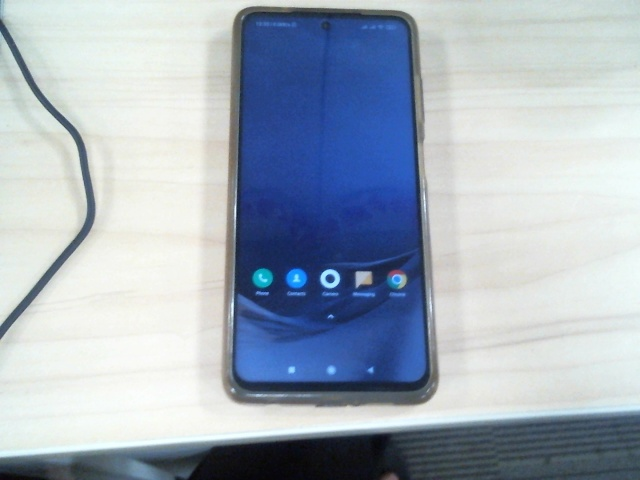handphone: (221, 5, 439, 407)
